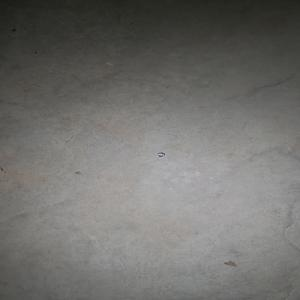Nut: (156, 152, 165, 157)
